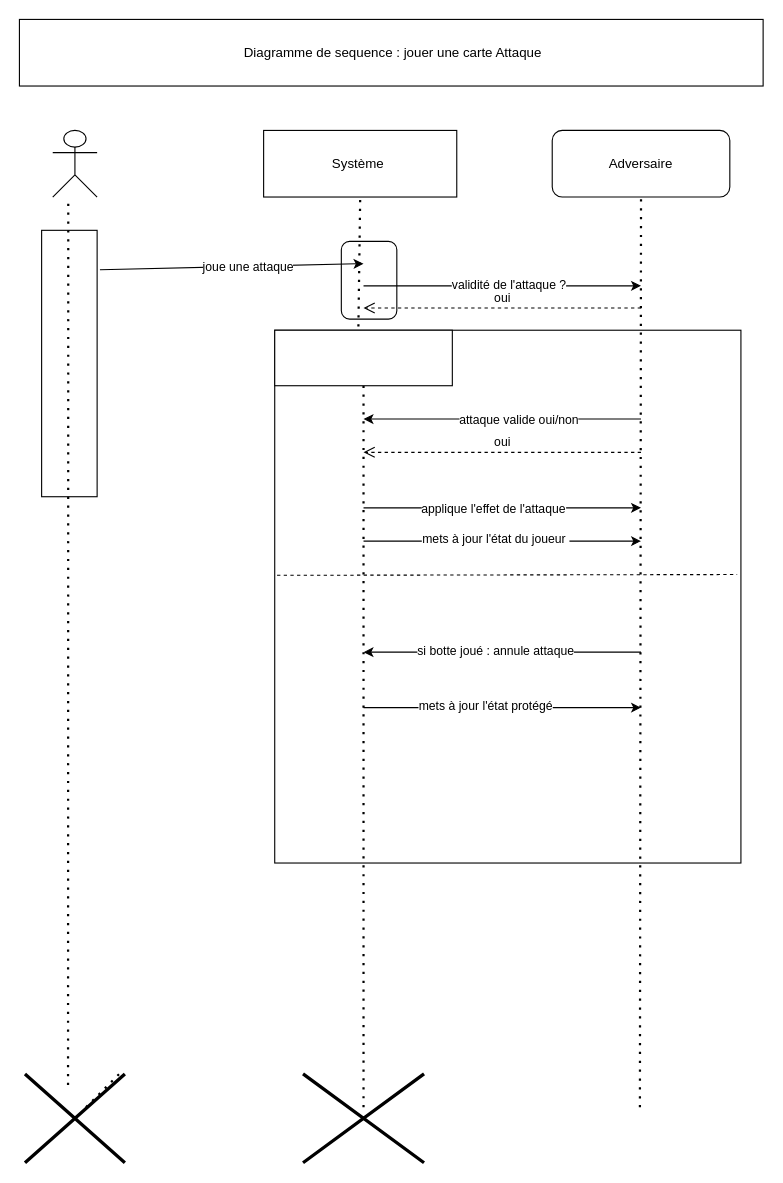
Image size: 783x1183. Some labels were removed from this diagram. The centre of each missing label's shape, as x and y in pixels:
"alternative" goes at (x=363, y=357).
"jouer qui attaque" goes at (x=74, y=163).
